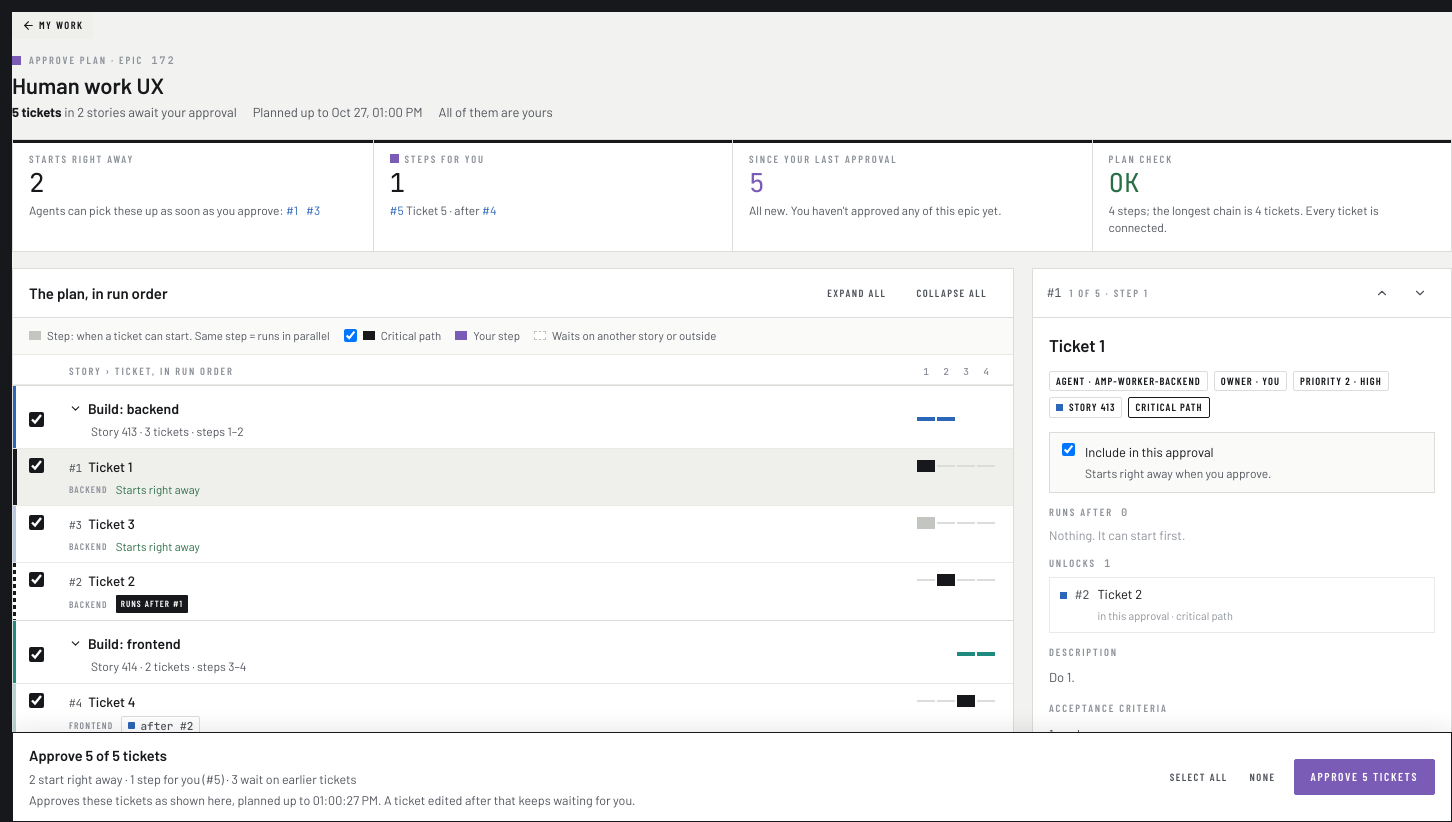
it: ApproveView › disables approve at zero
This screenshot has width=1452, height=822.
Click the button "None" at (1263, 777), box left=1240, top=765, right=1286, bottom=789
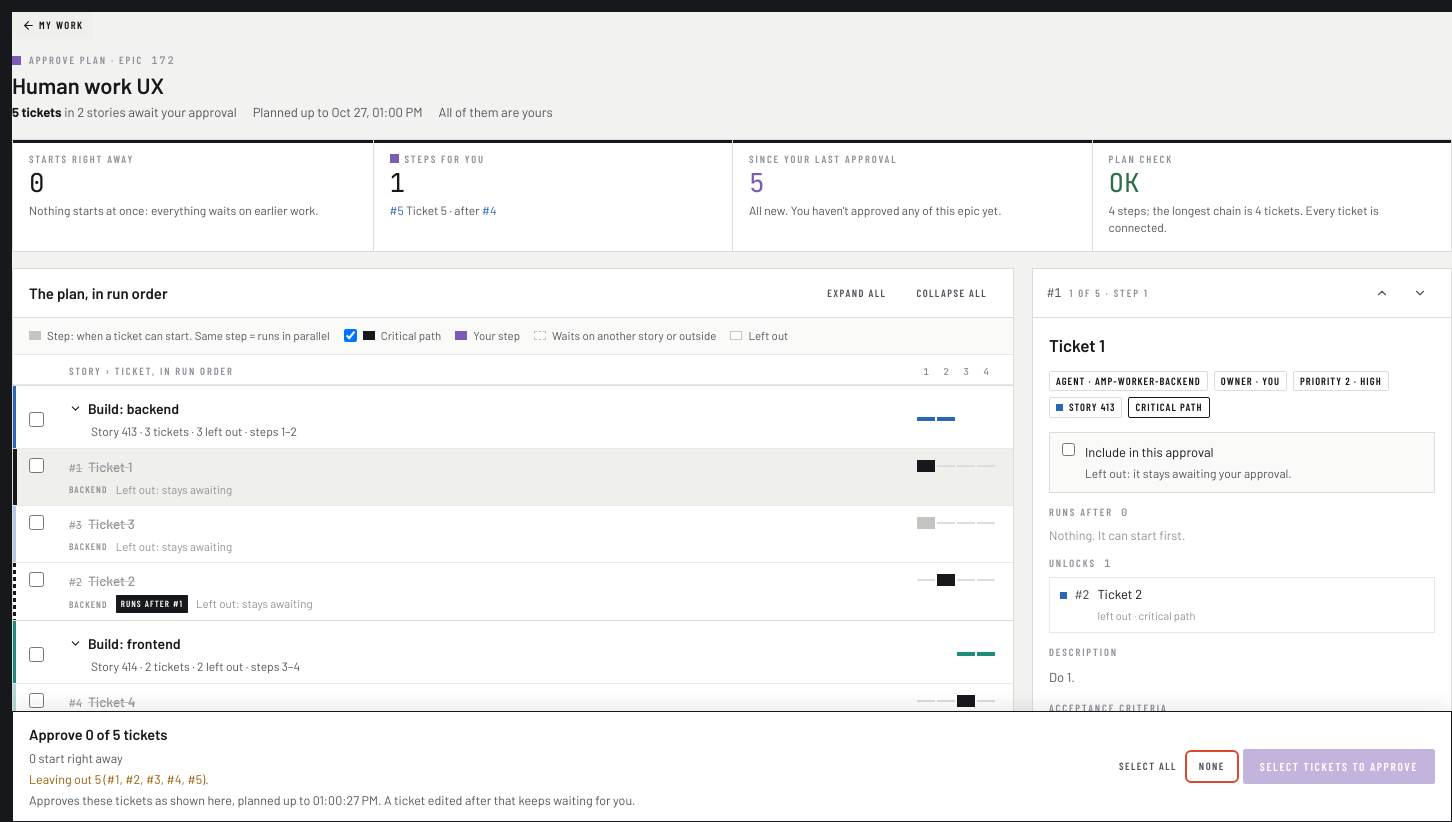
Now the button "Select tickets to approve" is disabled, box left=1243, top=749, right=1435, bottom=784
